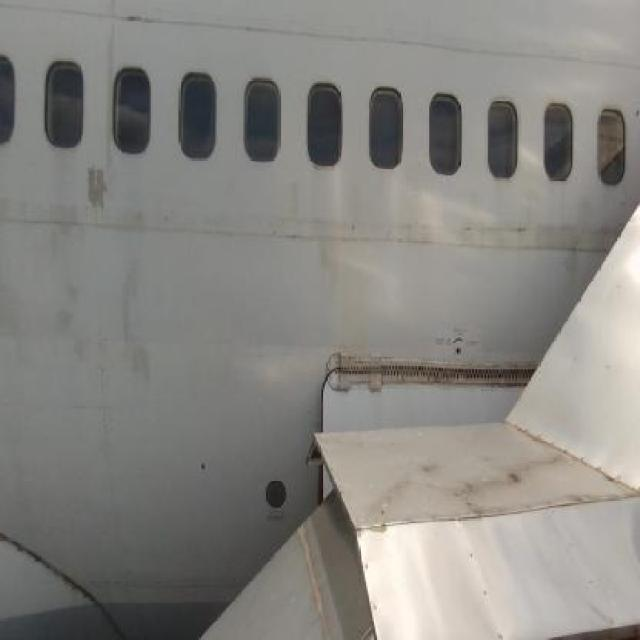Scartch: (85, 158, 113, 230)
